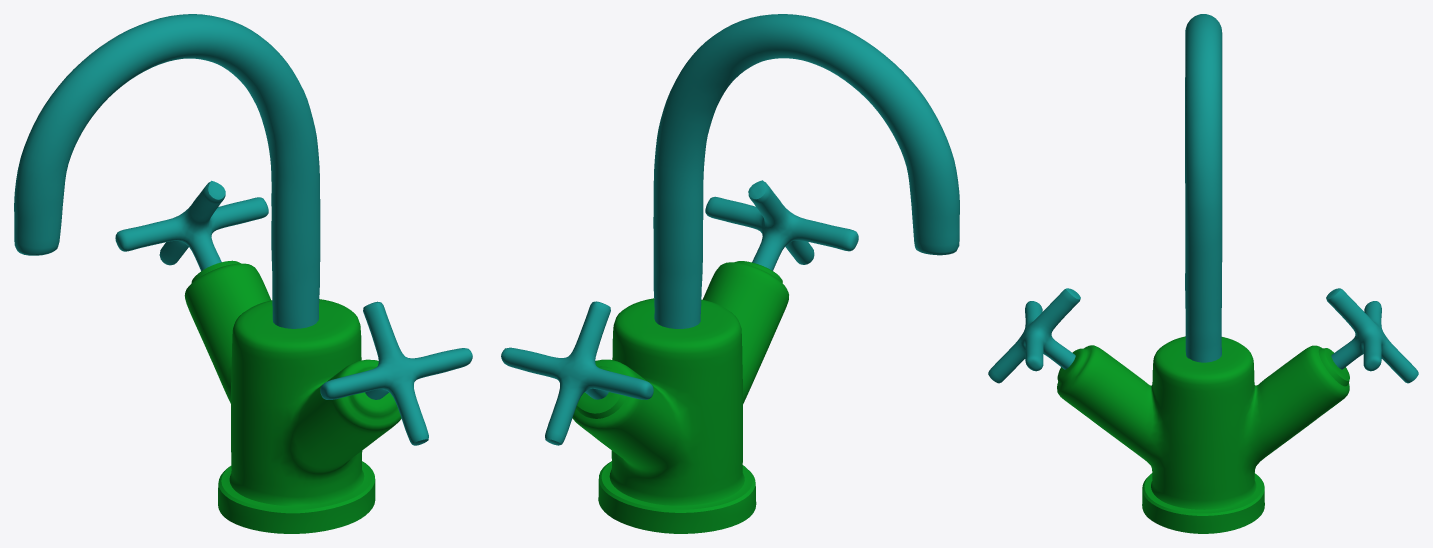
The model's file is robinet.fbx.
The picture shows the model from 3 angles, left to right: view 1: azimuth 30°, elevation 25°; view 2: azimuth 150°, elevation 25°; view 3: azimuth 270°, elevation 25°; orthographic projection. The views are drawn at different scales.
Visible parts, largest first — view 1: Object030; view 2: Object030; view 3: Object030.
Part boxes in pixels (x1,y1,x2,y2): Object030: (14, 14, 472, 533); Object030: (501, 14, 959, 533); Object030: (988, 14, 1418, 533).
Bounding box in the file's own units: 13.2 × 18.49 × 16.94.
